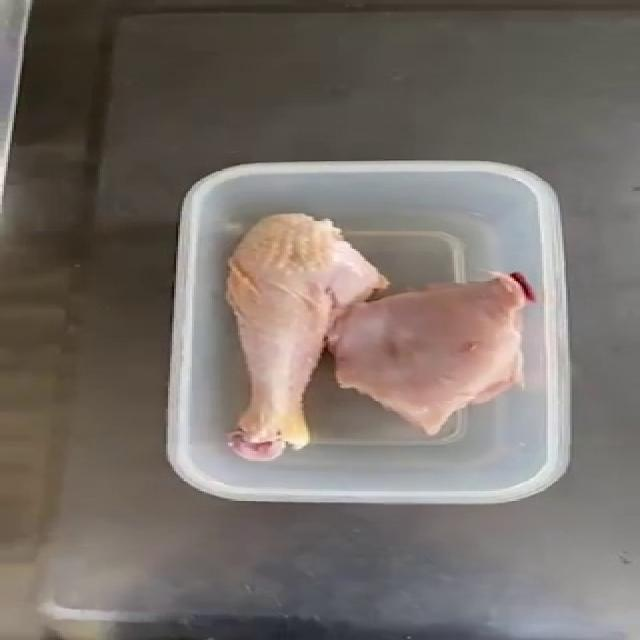chicken: (228, 209, 534, 448)
